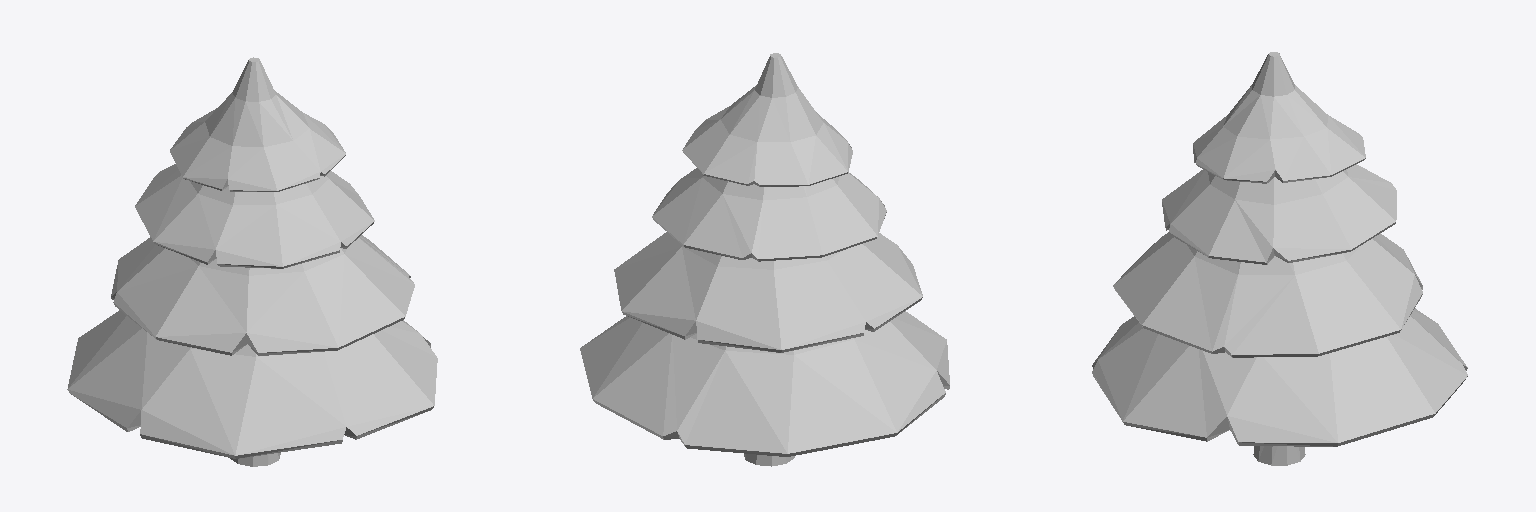
The model's file is tree1.obj.
3 renders of one model, left to right at view 1: azimuth 30°, elevation 25°; view 2: azimuth 150°, elevation 25°; view 3: azimuth 270°, elevation 25°, orthographic.
Visible parts, largest first — view 1: default; view 2: default; view 3: default.
Part boxes in pixels (x1,y1,x2,y2): default: (67,57,437,466); default: (580,53,949,466); default: (1092,52,1467,465).
Size of the model in its own units: 1.09 by 1.31 by 1.12.